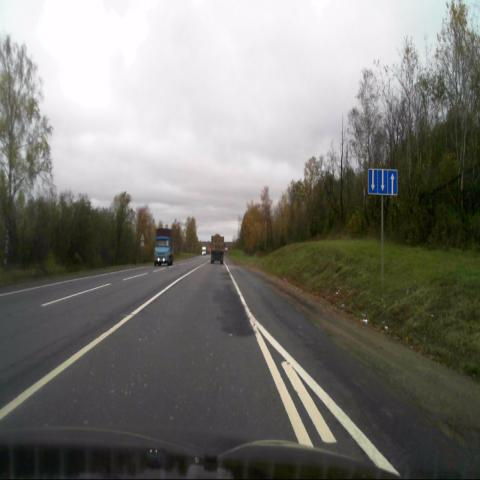5_15_7: (368, 169, 398, 196)
